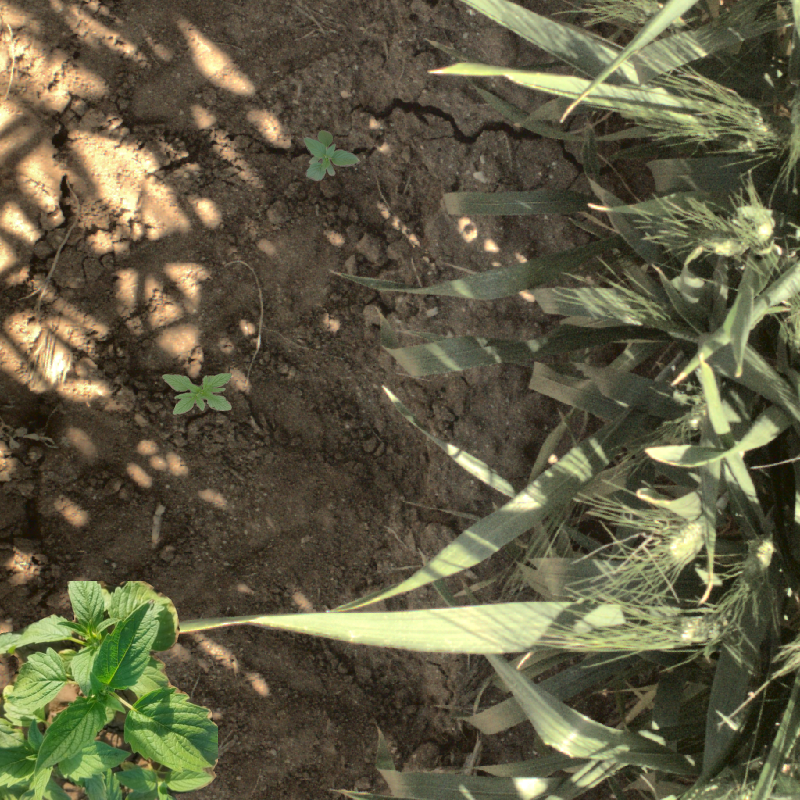spikelet: (614, 616, 729, 647), (698, 110, 787, 146), (667, 513, 722, 571)
weed: (1, 581, 218, 800), (303, 130, 361, 181), (162, 373, 232, 415)
